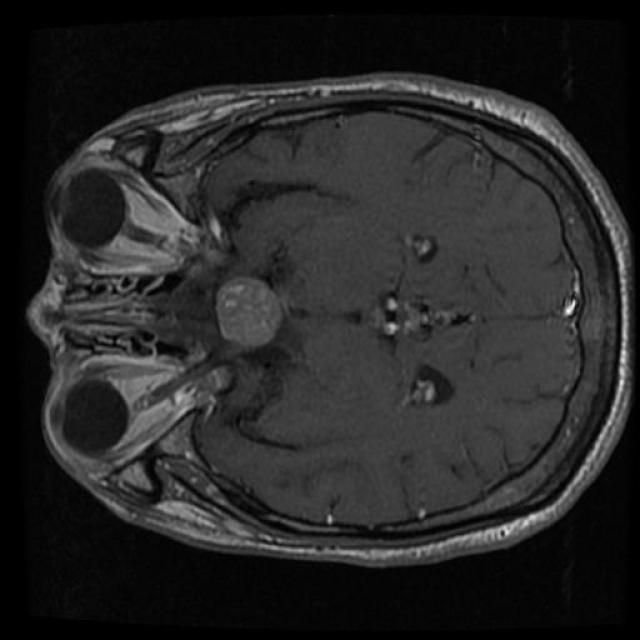Pituitary: (216, 276, 283, 347)
